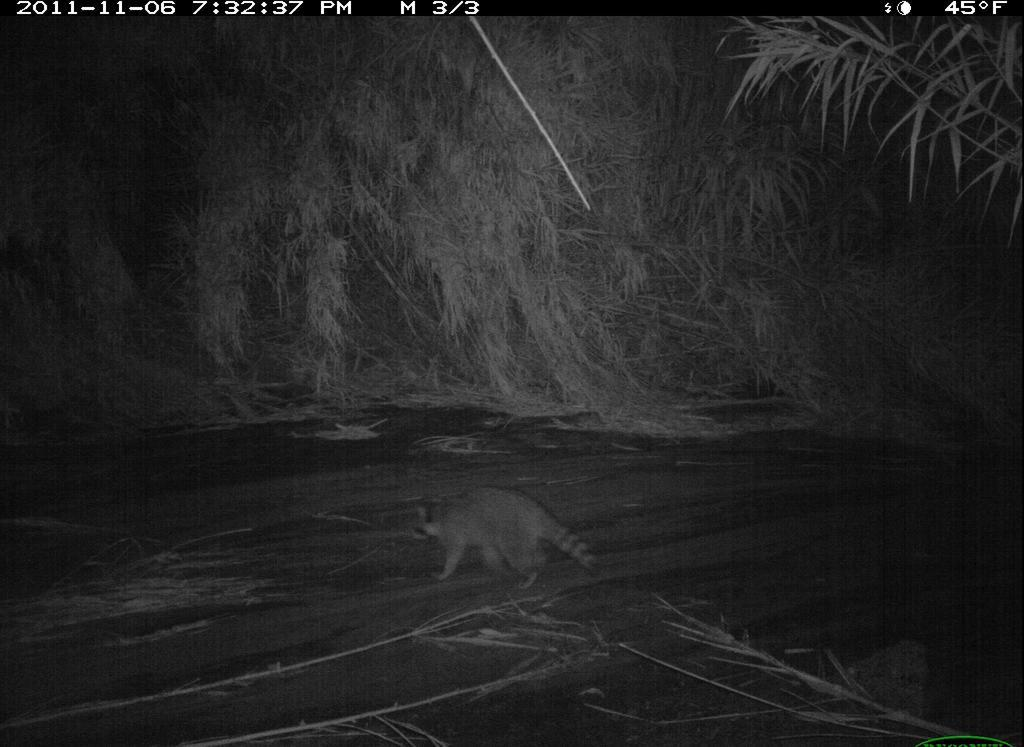raccoon: (404, 483, 603, 602)
